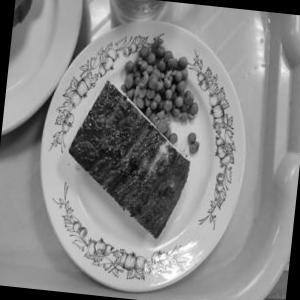casserole: (48, 28, 234, 249)
